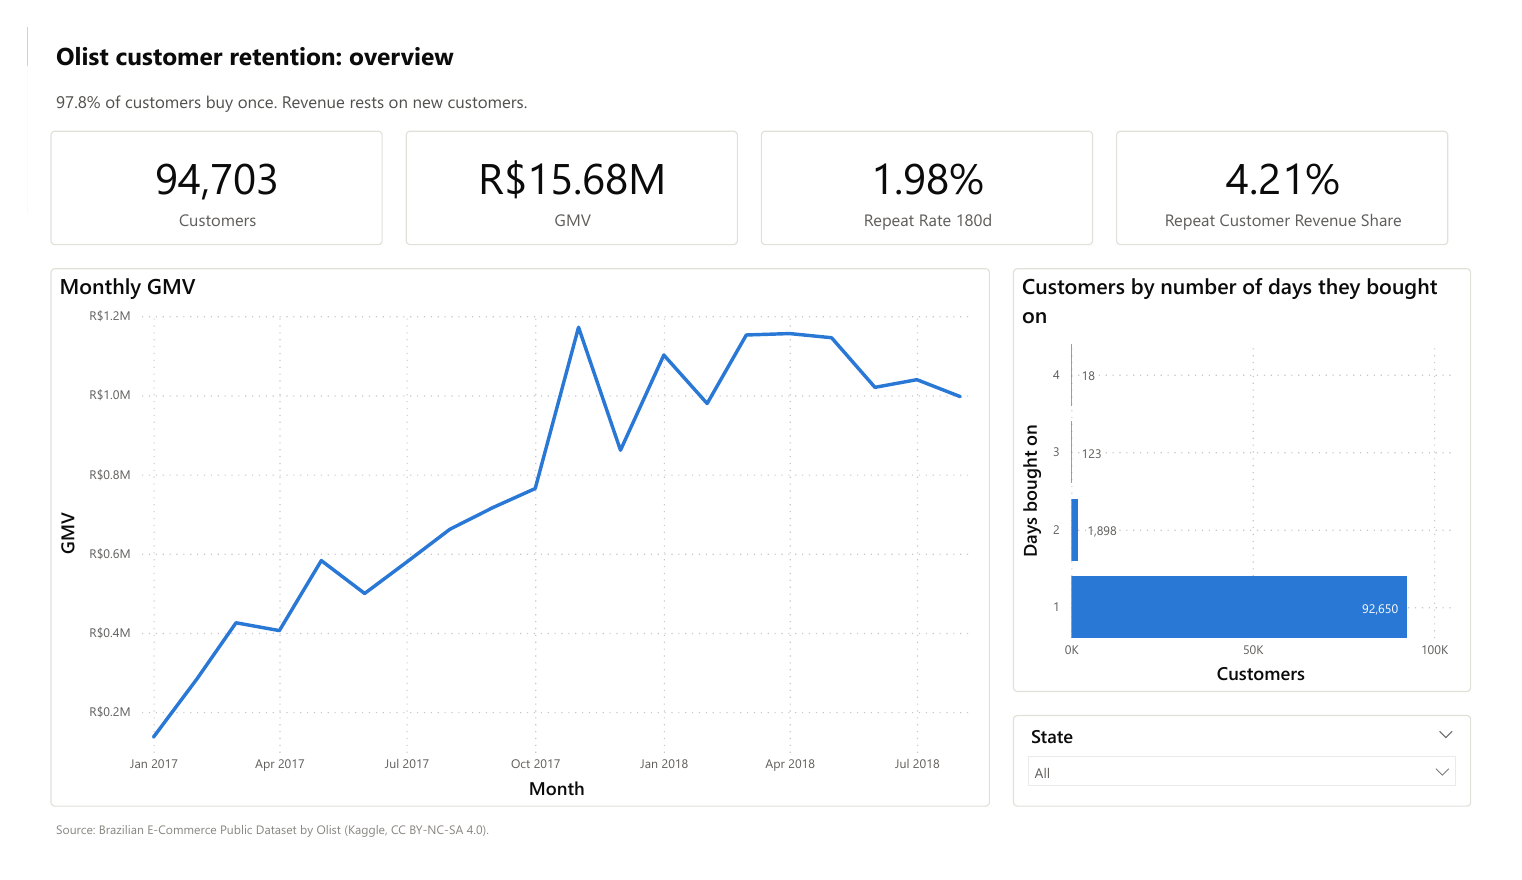

What the dashboard file says about the page in this screenshot:
{"tool":"powerbi","page":{"name":"Overview","canvas":[1280,720],"ordinal":0},"visuals":[{"type":"card","fields":{"Values":["_Measures.Customers"]},"box":[20,90,290,100],"z":0},{"type":"card","fields":{"Values":["_Measures.GMV"]},"box":[330,90,290,100],"z":1000},{"type":"card","fields":{"Values":["_Measures.Repeat Rate 180d"]},"box":[640,90,290,100],"z":2000},{"type":"card","fields":{"Values":["_Measures.Repeat Customer Revenue Share"]},"box":[950,90,290,100],"z":3000},{"type":"lineChart","title":"Monthly GMV","fields":{"Category":["Date.Month start"],"Y":["_Measures.GMV"]},"box":[20,210,820,470],"z":4000},{"type":"clusteredBarChart","title":"Customers by number of days they bought on","fields":{"Y":["_Measures.Customers"],"Category":["Customers.n_purchase_days"]},"box":[860,210,400,370],"z":5000},{"type":"slicer","fields":{"Values":["Customers.customer_state"]},"box":[860,600,400,80],"z":6000},{"type":"textbox","box":[20,686,1240,32],"z":7000},{"type":"textbox","box":[20,5,1240,45],"z":8000},{"type":"textbox","box":[20,50,1240,36],"z":9000}]}

Visuals, with their boxes in screenshot pixels (x1, y1, x2, y2), scaled from the page's 1280x720 canvas onto the 1522x880 screenshot:
card - _Measures.Customers: select_region(24, 110, 369, 232)
card - _Measures.GMV: select_region(392, 110, 737, 232)
card - _Measures.Repeat Rate 180d: select_region(761, 110, 1106, 232)
card - _Measures.Repeat Customer Revenue Share: select_region(1130, 110, 1474, 232)
"Monthly GMV" lineChart: select_region(24, 257, 999, 831)
"Customers by number of days they bought on" clusteredBarChart: select_region(1023, 257, 1498, 709)
slicer - Customers.customer_state: select_region(1023, 733, 1498, 831)
textbox: select_region(24, 838, 1498, 878)
textbox: select_region(24, 6, 1498, 61)
textbox: select_region(24, 61, 1498, 105)
